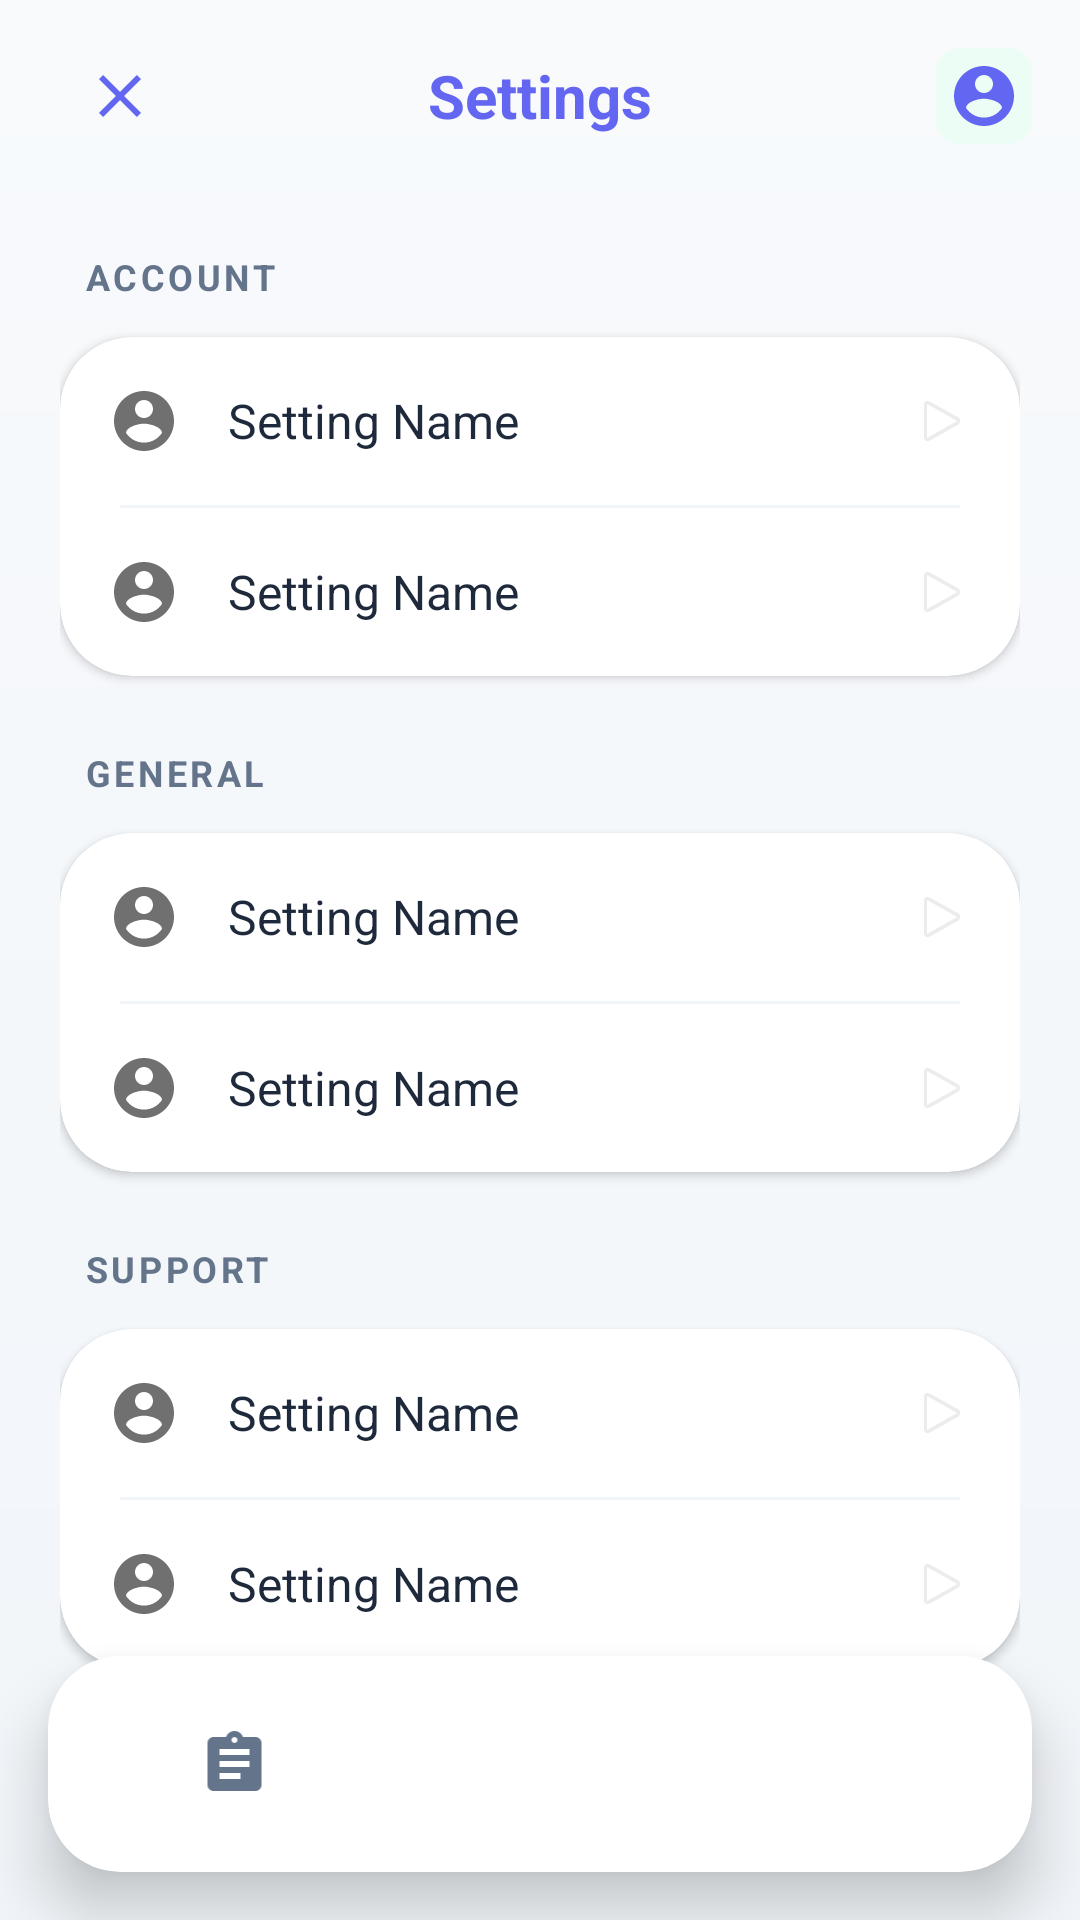

Where to tap for icons on this 1080 × 1920 app screen, as point (x, y):
close: point (120, 96)
tasks: point (234, 1761)
